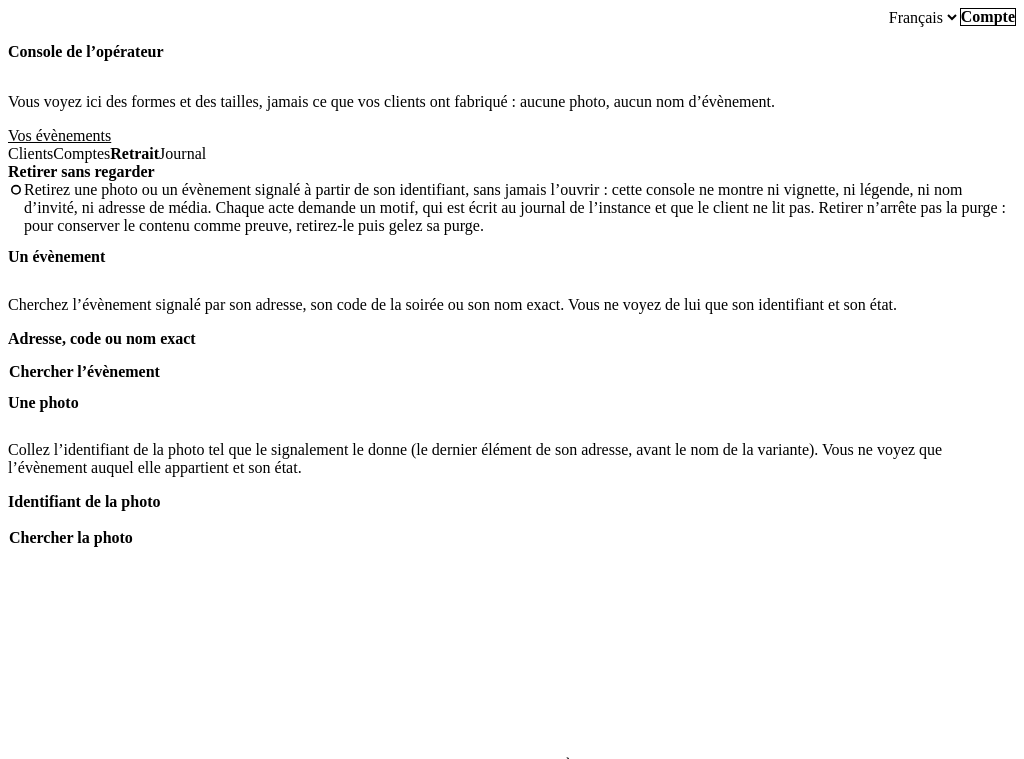
finding an event from what a report quoted › sends what was typed, and shows the event as an id, a state and a client, never a name
Type "mariage-de-camille" into the field labelled "Adresse, code ou nom exact".
click(512, 355); type("mariage-de-camille")  # box [8, 348, 1016, 362]
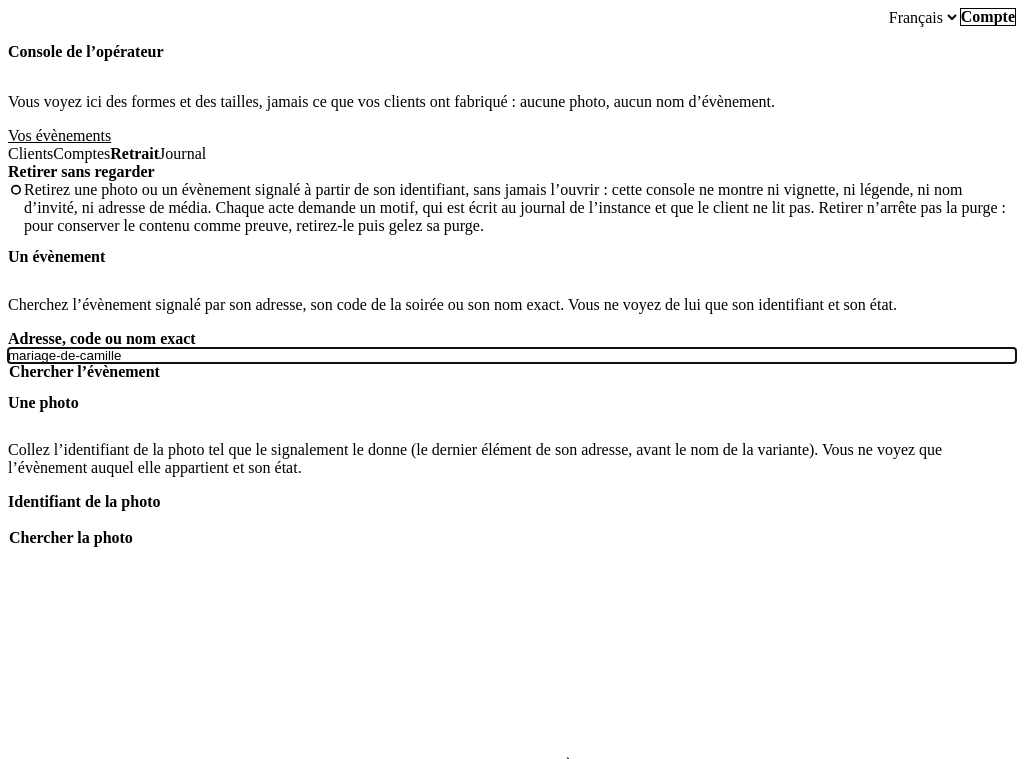
Click the button "Chercher l’évènement".
click(84, 372)  # box [8, 362, 161, 380]
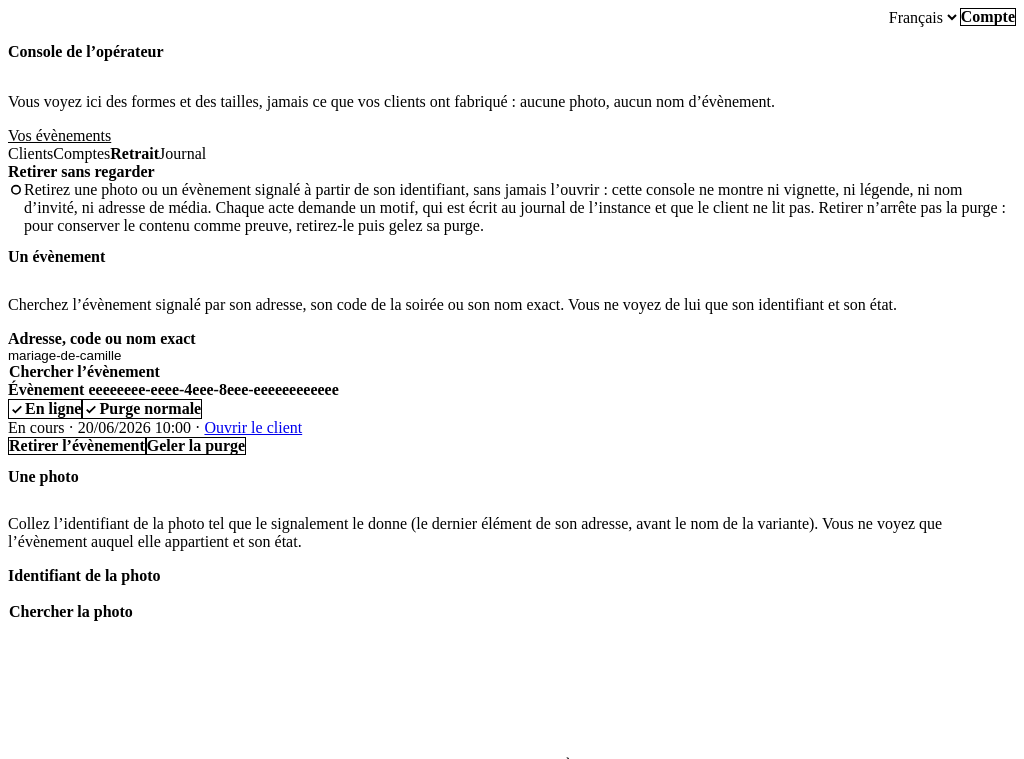
expect the text "En ligne" is shown: met, box [8, 398, 82, 418]
expect the text "Purge normale" is shown: met, box [82, 398, 202, 418]
